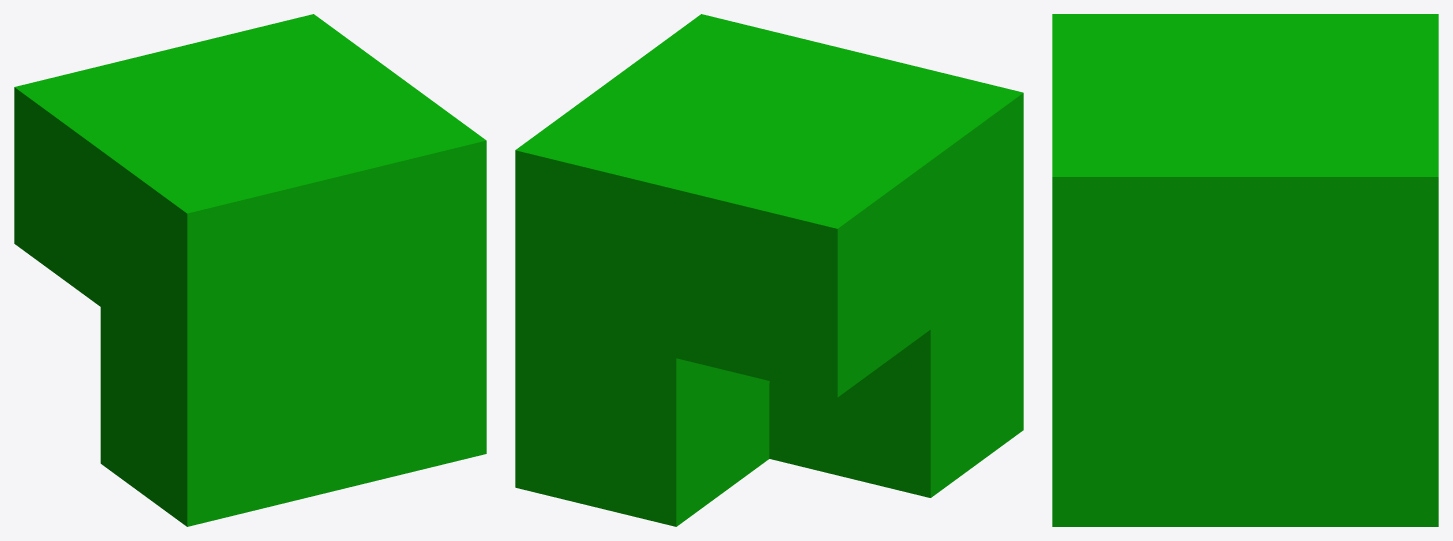
The model's file is simple-mesh.gltf.
3 views of the same model, side by side, from view 1: azimuth 30°, elevation 25°; view 2: azimuth 150°, elevation 25°; view 3: azimuth 270°, elevation 25° (orthographic). The views are drawn at different scales.
Visible parts, largest first — view 1: Renderer Node; view 2: Renderer Node; view 3: Renderer Node.
Part boxes in pixels (x1=…): Renderer Node: x1=14, y1=14, x2=486, y2=526; Renderer Node: x1=515, y1=14, x2=1023, y2=526; Renderer Node: x1=1052, y1=14, x2=1438, y2=526.
Size of the model in its own units: 1 by 1 by 1.
